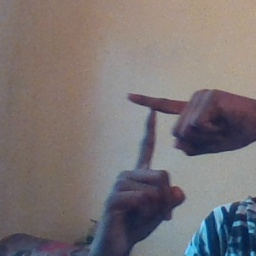T: (93, 85, 219, 198)
